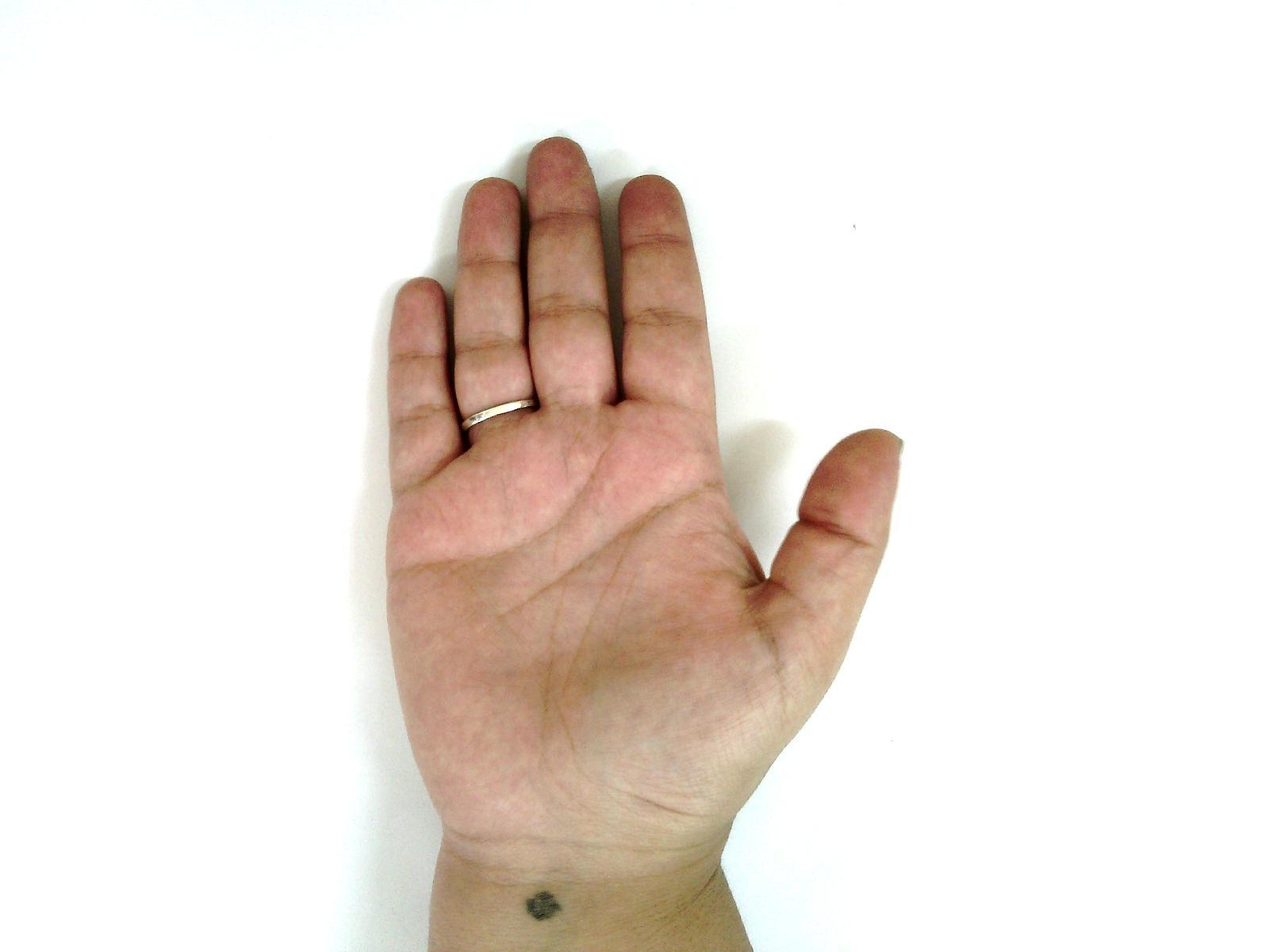open_palm: (382, 138, 905, 850)
